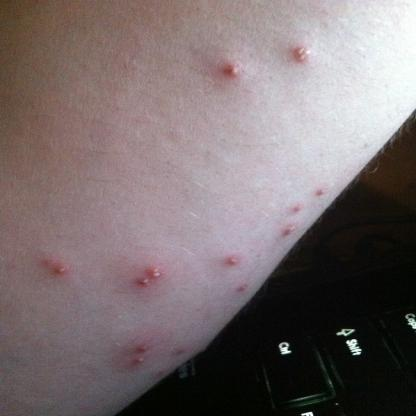Fire ant: (134, 262, 166, 290), (38, 254, 77, 276), (216, 58, 248, 81), (129, 338, 148, 372), (287, 43, 316, 63), (165, 343, 193, 356), (278, 221, 298, 238), (221, 253, 243, 267), (231, 281, 253, 293), (288, 199, 306, 213), (312, 182, 328, 196), (154, 367, 168, 379)
